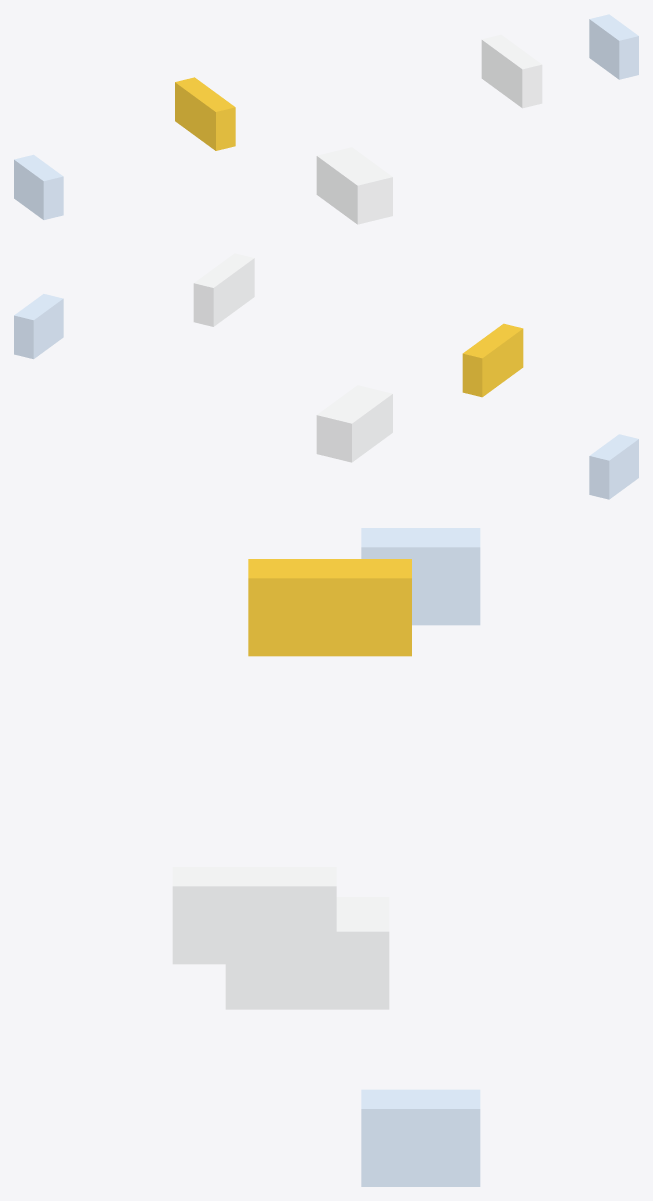
3 views of the same model, one above another, from view 1: azimuth 30°, elevation 25°; view 2: azimuth 150°, elevation 25°; view 3: azimuth 270°, elevation 25° (orthographic). The views are drawn at different scales.
Parts seen in each view (by area): view 1: FFN ×3, Residual + norm ×3, Self-attention ×3, Token + position embed., Classifier / output; view 2: FFN ×3, Self-attention ×3, Residual + norm ×3, Classifier / output, Token + position embed.; view 3: Residual + norm ×3, Self-attention ×3, Classifier / output, FFN ×3, Token + position embed..
Boxes of the visible parts, bbox=[...] form: FFN ×3: bbox=[316, 147, 392, 224]; Residual + norm ×3: bbox=[481, 34, 542, 108]; Self-attention ×3: bbox=[175, 77, 235, 150]; Token + position embed.: bbox=[14, 154, 63, 219]; Classifier / output: bbox=[589, 14, 638, 79]; FFN ×3: bbox=[316, 385, 392, 462]; Self-attention ×3: bbox=[462, 323, 523, 397]; Residual + norm ×3: bbox=[193, 253, 254, 326]; Classifier / output: bbox=[14, 294, 63, 359]; Token + position embed.: bbox=[589, 434, 638, 499]; Residual + norm ×3: bbox=[172, 867, 336, 964]; Self-attention ×3: bbox=[248, 559, 411, 656]; Classifier / output: bbox=[361, 1089, 480, 1186]; FFN ×3: bbox=[225, 897, 389, 1009]; Token + position embed.: bbox=[361, 528, 480, 625].
Size of the model in its own units: 33.68 by 7.66 by 7.53.
